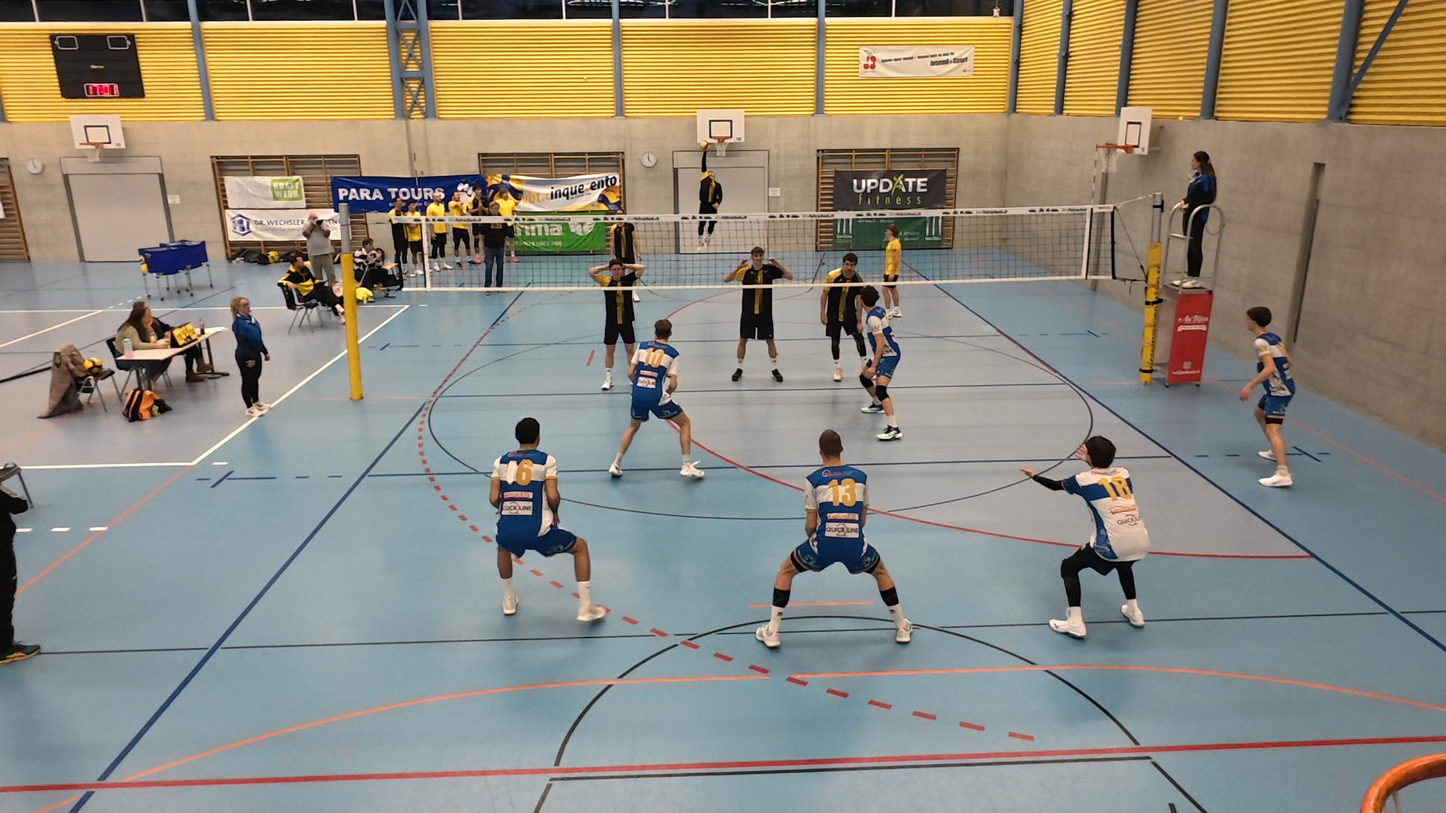Player: (757, 430, 913, 647), (1022, 435, 1149, 638), (490, 417, 606, 621), (608, 320, 707, 481), (1238, 308, 1295, 488), (728, 246, 788, 382), (816, 256, 873, 384), (590, 254, 641, 391), (860, 302, 902, 441), (609, 210, 648, 303), (878, 226, 909, 317)
Serve: (693, 141, 725, 252)
ball: (698, 138, 712, 151)
